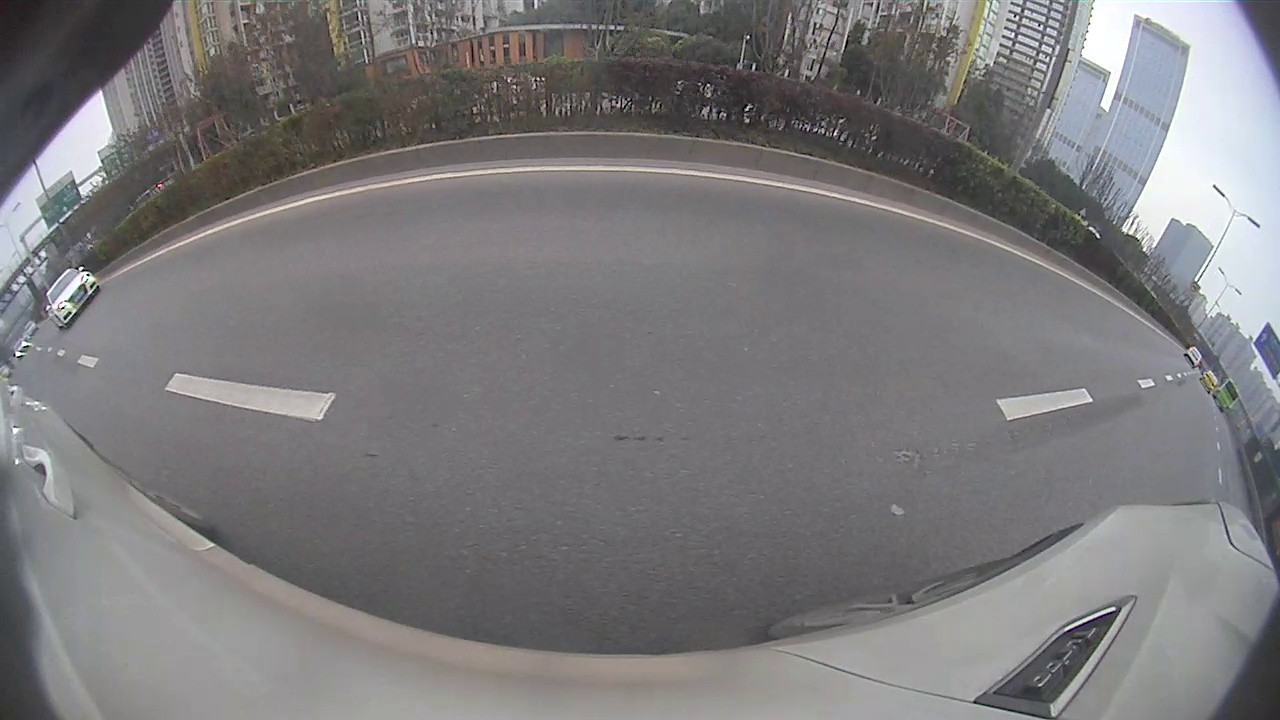bus: (1210, 375, 1238, 415)
car: (41, 264, 103, 332), (1182, 344, 1205, 371)
